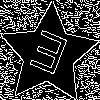E: (24, 29, 71, 84)
